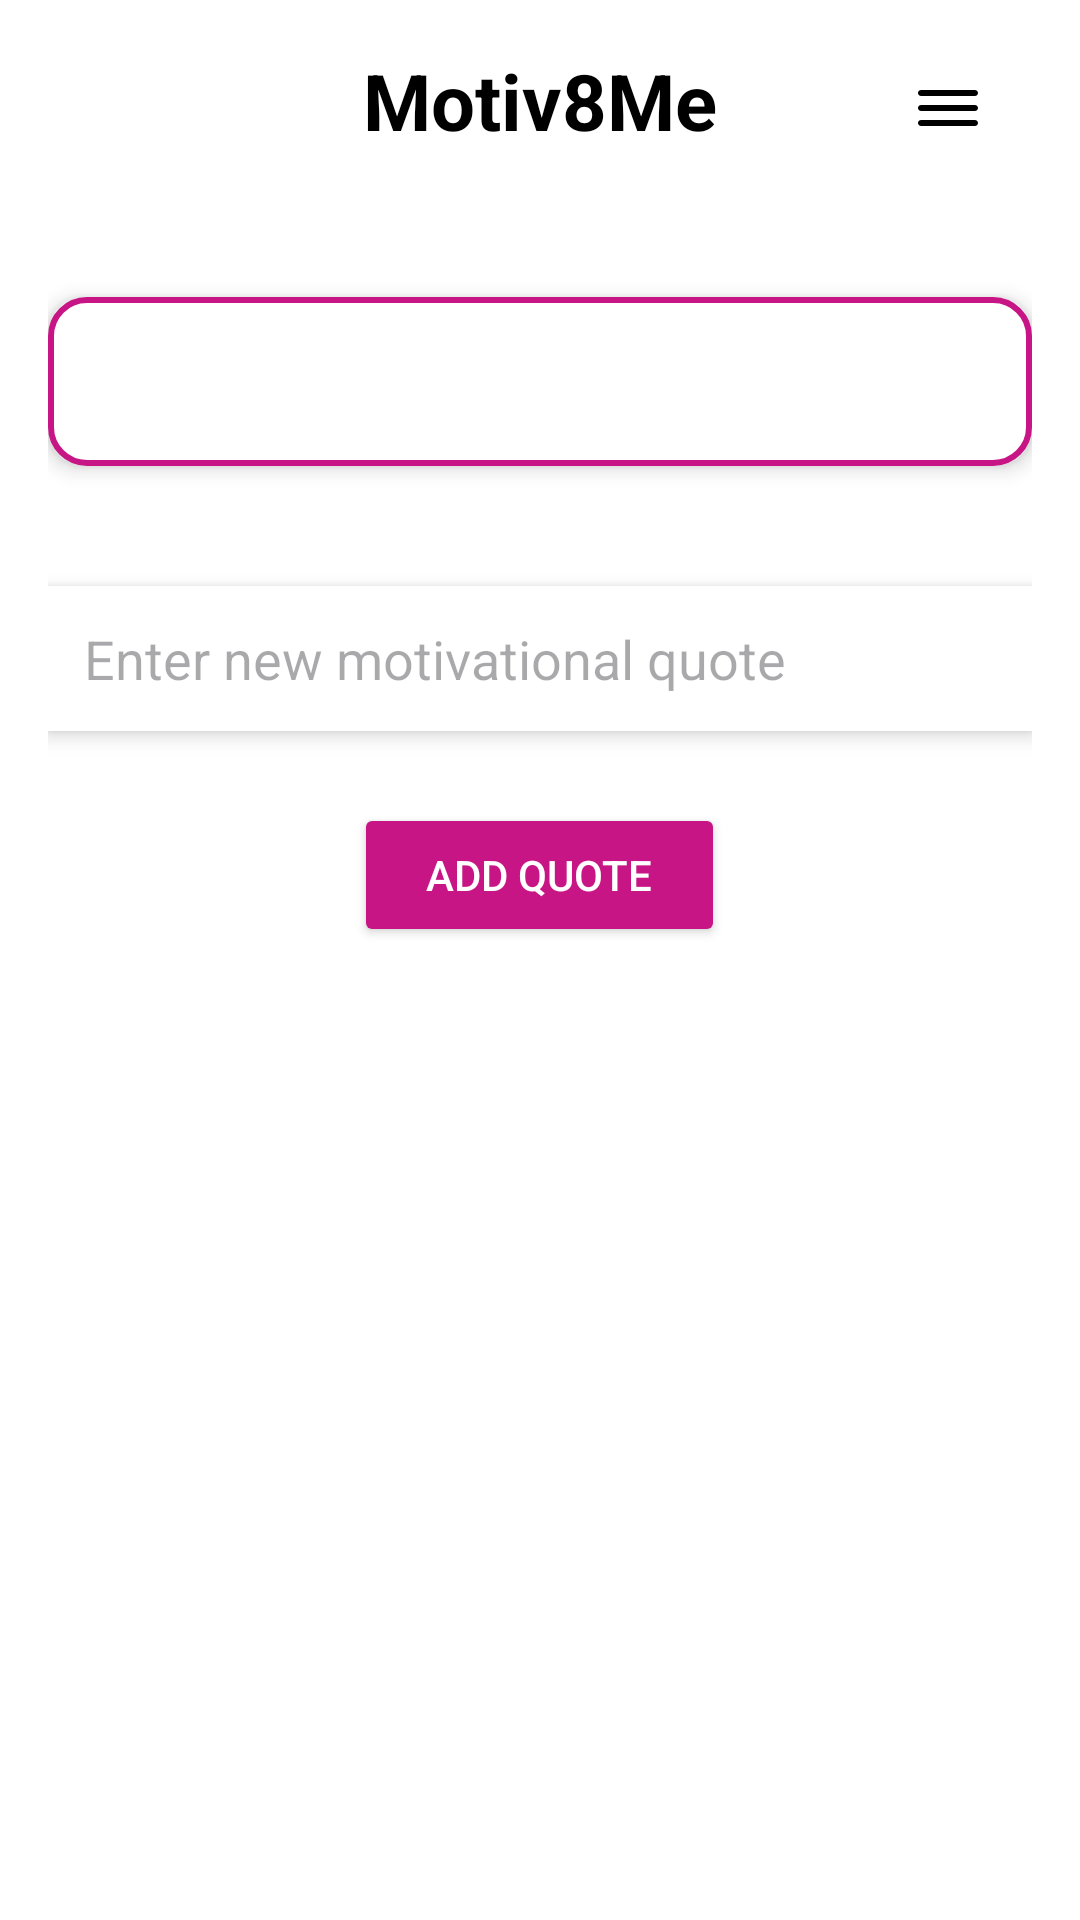

Icon click points for this 1080px x 1920px phone screenshot, format point (x, y):
Menu: point (948, 108)
